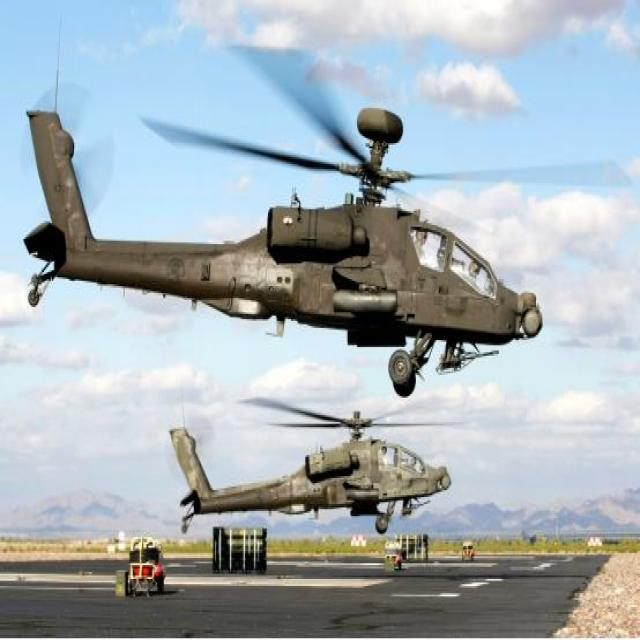MIL_HELO: (0, 39, 640, 397), (157, 387, 487, 548)
